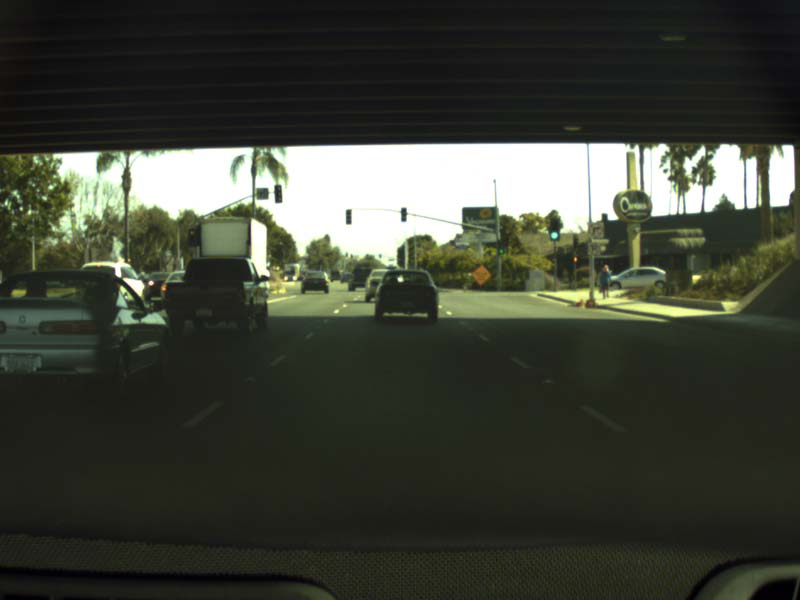Green: (549, 218, 559, 241), (497, 239, 504, 255)
Yellow: (188, 228, 196, 246)
